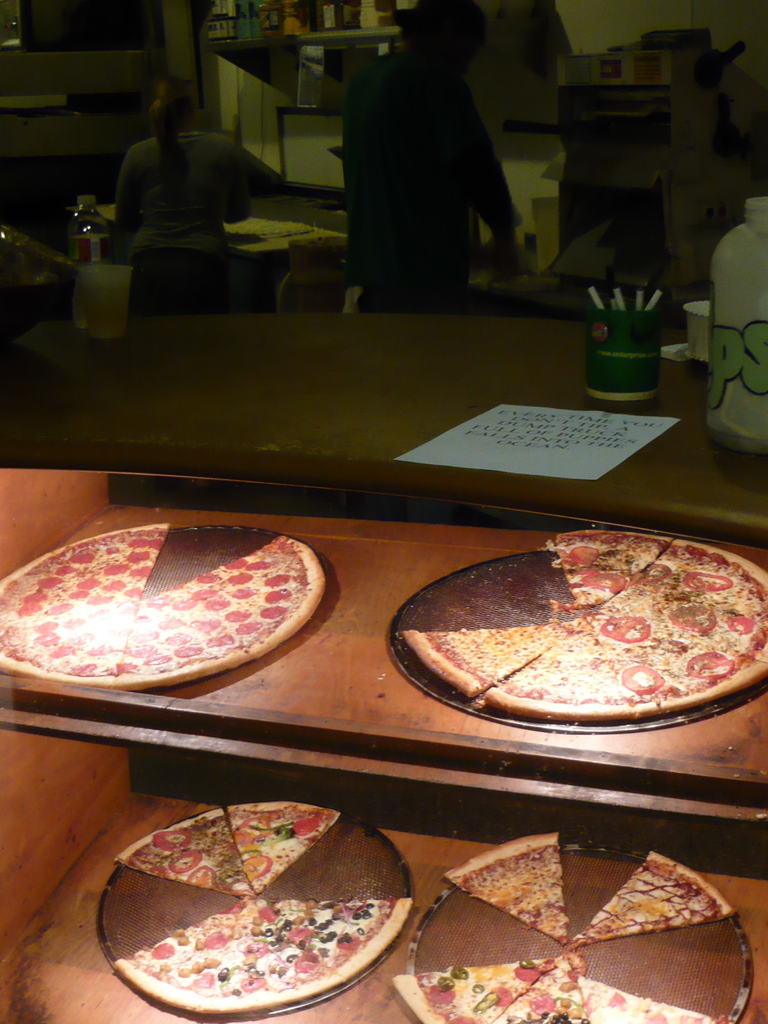Pizza: (399, 529, 767, 721), (109, 795, 386, 1015), (0, 520, 327, 688), (568, 848, 731, 947), (442, 830, 567, 945), (396, 952, 567, 1023), (586, 975, 712, 1023), (495, 961, 584, 1023)
